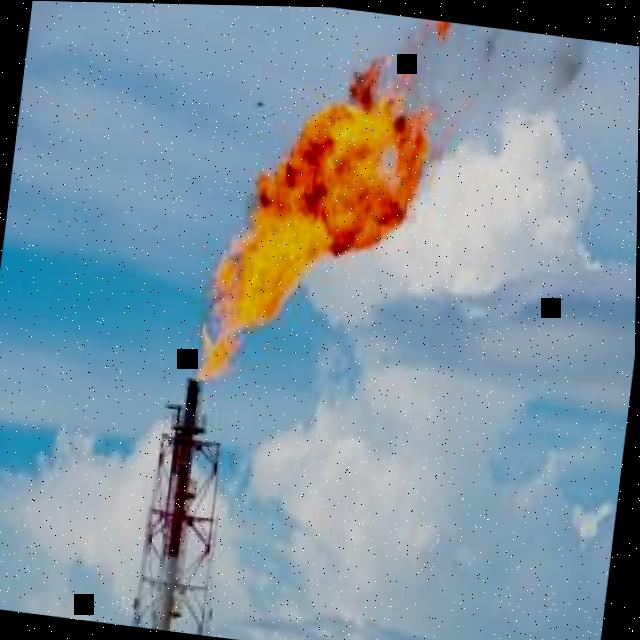fire: (196, 49, 434, 380), (415, 18, 451, 42)
